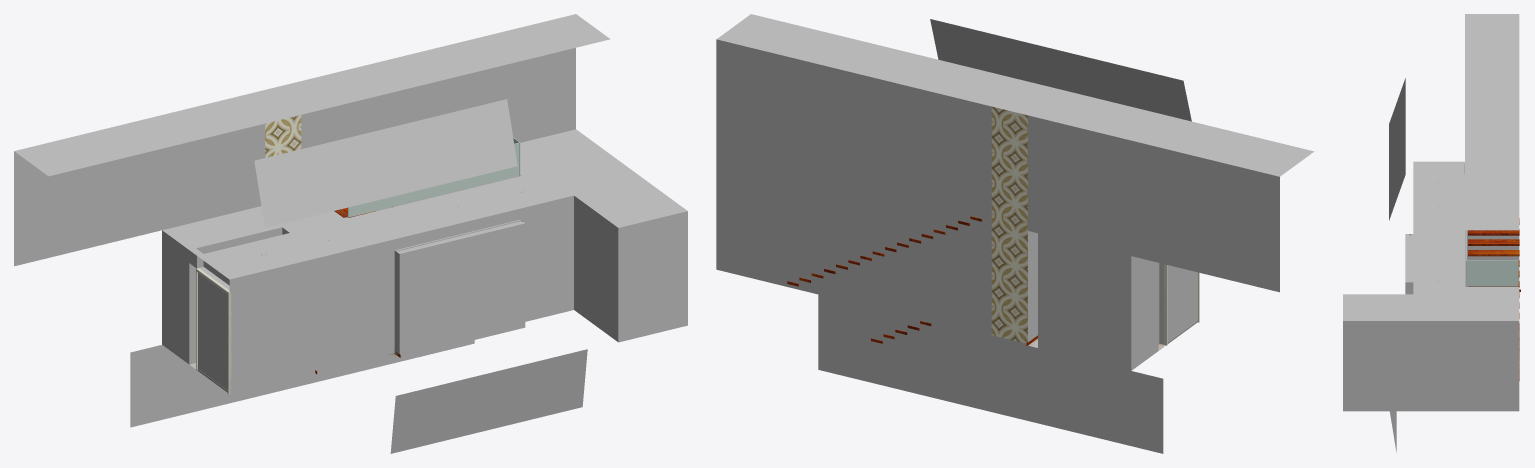
The model's file is modern-hall.obj.
3 renders of one model, left to right at view 1: azimuth 30°, elevation 25°; view 2: azimuth 150°, elevation 25°; view 3: azimuth 270°, elevation 25°, orthographic. The views are drawn at different scales.
Visible parts, largest first — view 1: Plane, Plane.004, Plane.006, Plane.007, Plane.003, Plane.001, Plane.008, Plane.024; view 2: Plane, Plane.004, Plane.008, Plane.003, Cube; view 3: Plane, Plane.004, Plane.001, Cube.
Part boxes in pixels (left/top/right/bottom): Plane: left=14, top=14, right=687, bottom=427; Plane.004: left=254, top=99, right=517, bottom=227; Plane.006: left=399, top=223, right=525, bottom=357; Plane.007: left=390, top=349, right=587, bottom=453; Plane.003: left=198, top=273, right=227, bottom=390; Plane.001: left=348, top=137, right=520, bottom=217; Plane.008: left=265, top=115, right=301, bottom=157; Plane.024: left=196, top=268, right=231, bottom=394; Plane: left=716, top=14, right=1314, bottom=453; Plane.004: left=930, top=19, right=1191, bottom=121; Plane.008: left=991, top=106, right=1027, bottom=343; Plane.003: left=1167, top=265, right=1197, bottom=341; Cube: left=787, top=216, right=982, bottom=343; Plane: left=1343, top=14, right=1519, bottom=411; Plane.004: left=1389, top=78, right=1405, bottom=220; Plane.001: left=1466, top=230, right=1518, bottom=286; Cube: left=1468, top=218, right=1519, bottom=380.
Size of the model in its own units: 28.88 by 15.76 by 10.03.
15 materials, 4 textured.
